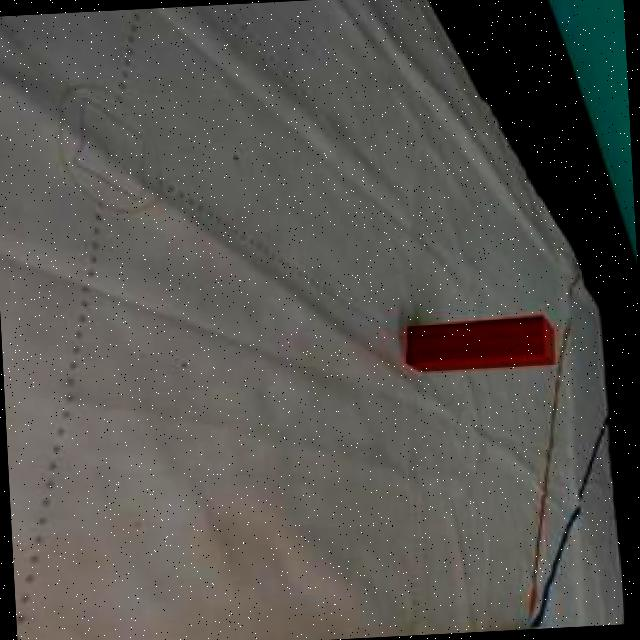redbox: (404, 314, 558, 377)
